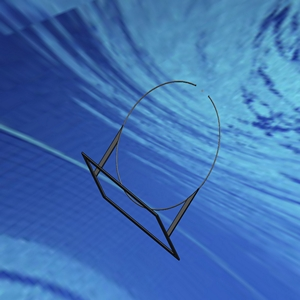circle: (80, 78, 222, 259)
